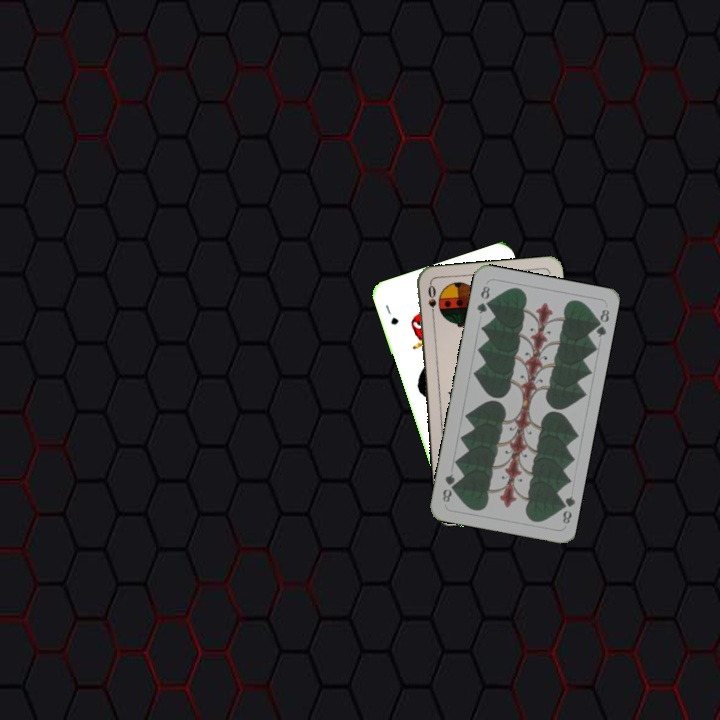G8: (555, 492, 577, 526), (473, 282, 492, 317)
GU: (381, 301, 401, 327)
SO: (424, 281, 439, 322)
